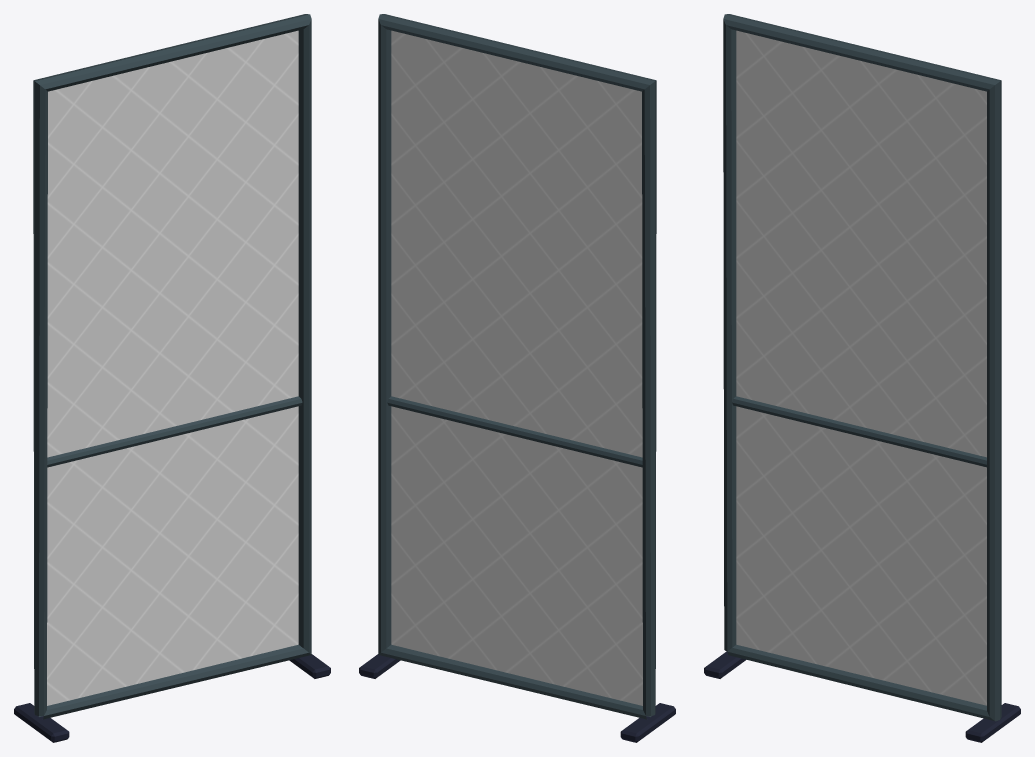
File: sm_env_depot_cage_panel.glb
3 renders of one model, left to right at view 1: azimuth 30°, elevation 25°; view 2: azimuth 150°, elevation 25°; view 3: azimuth 330°, elevation 25°, orthographic.
Parts seen in each view (by area): view 1: Mesh, Frame, MidBar, Foot, Foot.001; view 2: Mesh, Frame, MidBar, Foot, Foot.001; view 3: Mesh, Frame, MidBar, Foot.001, Foot.
Part boxes in pixels (x1,y1,x2,y2): Mesh: (47,30,298,705); Frame: (33,14,311,719); MidBar: (47,396,302,467); Foot: (14,703,69,742); Foot.001: (289,654,330,678); Mesh: (391,30,642,705); Frame: (378,14,656,719); MidBar: (387,396,642,467); Foot: (620,703,675,742); Foot.001: (359,654,400,678); Mesh: (736,30,986,705); Frame: (723,14,1001,721); MidBar: (732,396,986,467); Foot.001: (965,703,1020,742); Foot: (704,651,746,678).
Bounding box in the file's own units: 1.22 × 2.7 × 0.3.
3 materials, 1 textured.
